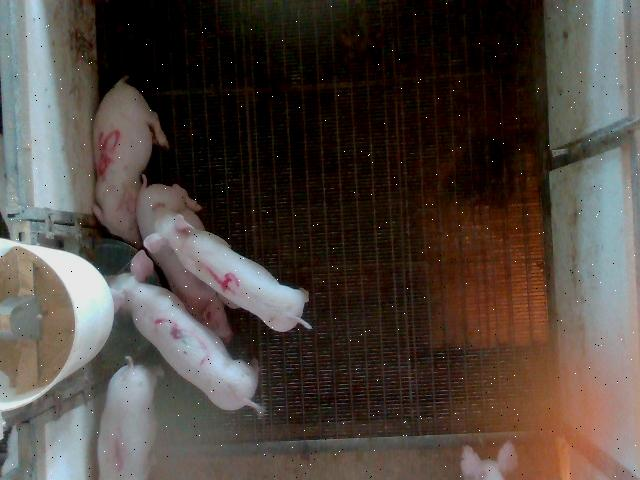pig-1: (98, 358, 156, 478)
pig-3: (109, 250, 258, 419)
pig-4: (144, 209, 311, 331)
pig-5: (92, 78, 169, 247)
